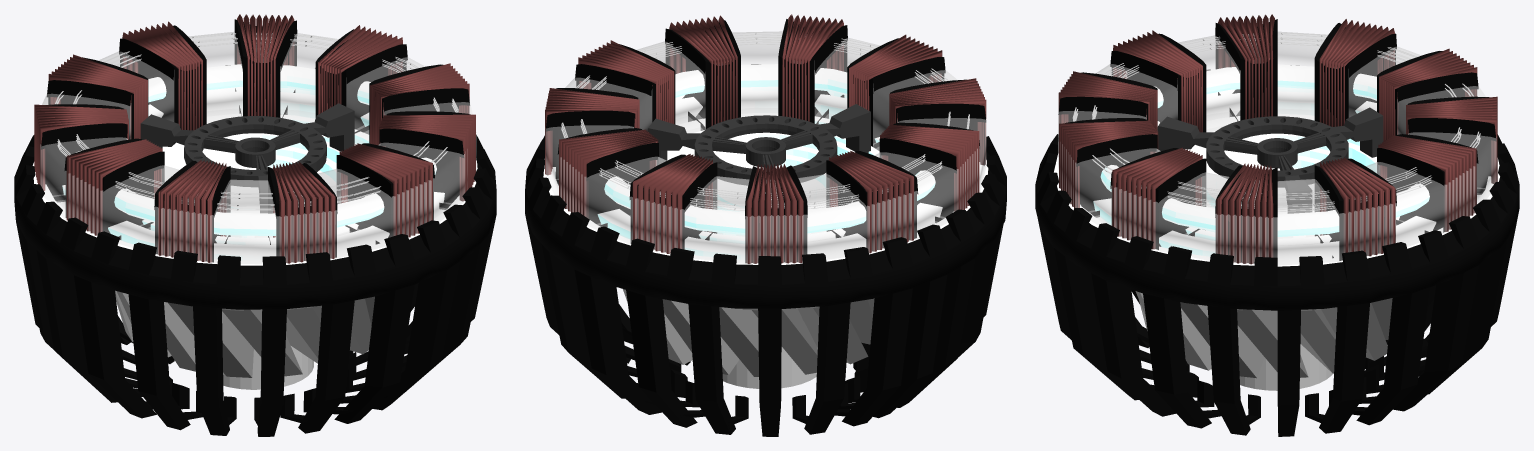
The model's file is iron_mans_arc_reactor.glb.
3 renders of one model, left to right at view 1: azimuth 30°, elevation 25°; view 2: azimuth 150°, elevation 25°; view 3: azimuth 270°, elevation 25°, orthographic.
Parts seen in each view (by area): view 1: Cylinder_8, Plane.010_5, Torus.002_0, Torus.001_1, Cylinder.001_7, Cylinder.002_9, Torus.004_4, Cylinder.004_12, Cylinder.003_10; view 2: Cylinder_8, Plane.010_5, Torus.002_0, Torus.001_1, Cylinder.001_7, Cylinder.002_9, Torus.004_4, Cylinder.004_12, Cylinder.003_10; view 3: Cylinder_8, Plane.010_5, Torus.002_0, Torus.001_1, Cylinder.001_7, Cylinder.002_9, Torus.004_4, Cylinder.004_12, Cylinder.003_10.
Boxes of the visible parts, <box> form: Cylinder_8: <box>14,65,496,436</box>; Plane.010_5: <box>34,14,475,263</box>; Torus.002_0: <box>40,32,476,263</box>; Torus.001_1: <box>41,19,470,262</box>; Cylinder.001_7: <box>140,103,354,212</box>; Cylinder.002_9: <box>115,290,374,377</box>; Torus.004_4: <box>76,64,436,235</box>; Cylinder.004_12: <box>55,33,458,210</box>; Cylinder.003_10: <box>223,346,313,389</box>; Cylinder_8: <box>525,64,1006,436</box>; Plane.010_5: <box>545,14,986,263</box>; Torus.002_0: <box>546,31,986,263</box>; Torus.001_1: <box>545,19,986,262</box>; Cylinder.001_7: <box>648,104,870,185</box>; Cylinder.002_9: <box>623,289,874,376</box>; Torus.004_4: <box>604,64,935,234</box>; Cylinder.004_12: <box>561,32,969,210</box>; Cylinder.003_10: <box>722,347,816,388</box>; Cylinder_8: <box>1035,69,1519,436</box>; Plane.010_5: <box>1058,14,1497,264</box>; Torus.002_0: <box>1058,31,1496,265</box>; Torus.001_1: <box>1058,19,1496,263</box>; Cylinder.001_7: <box>1158,107,1383,213</box>; Cylinder.002_9: <box>1135,291,1392,378</box>; Torus.004_4: <box>1100,64,1429,236</box>; Cylinder.004_12: <box>1072,33,1480,211</box>; Cylinder.003_10: <box>1239,344,1332,390</box>.
Size of what is drawn, in the model's own units: 2.73 by 1.71 by 2.73.
